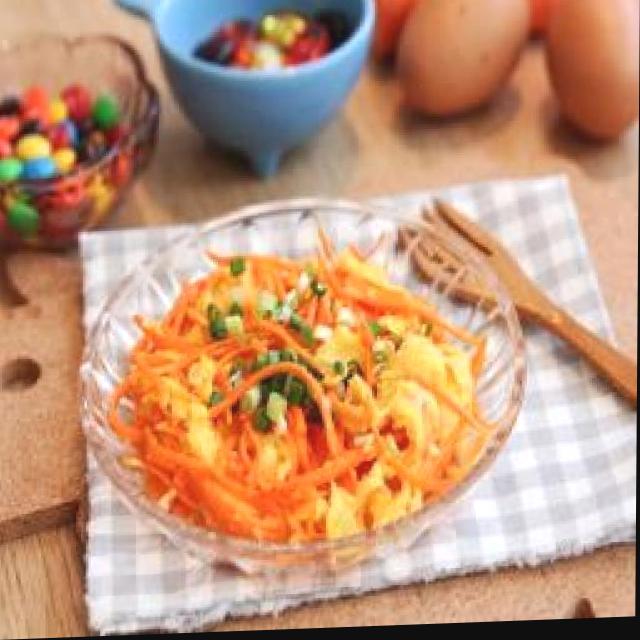carrot_eggs: (122, 251, 481, 544)
